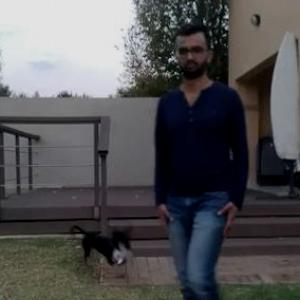follow: (134, 36, 236, 299)
